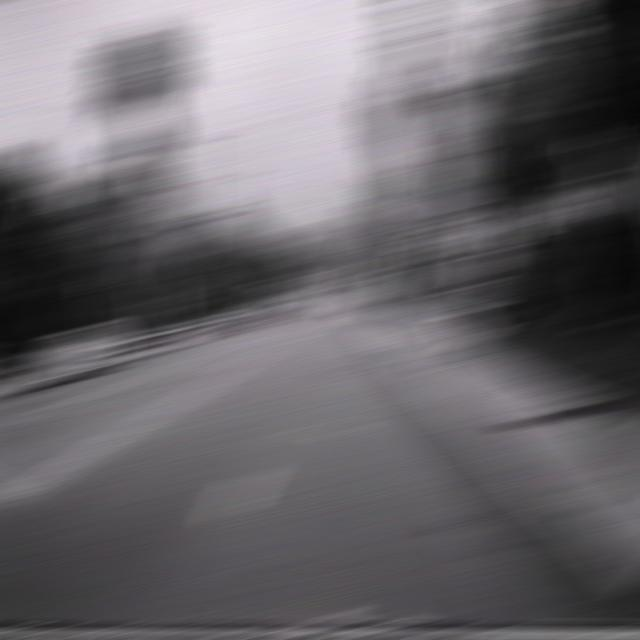speedLimit30: (408, 189, 452, 232)
